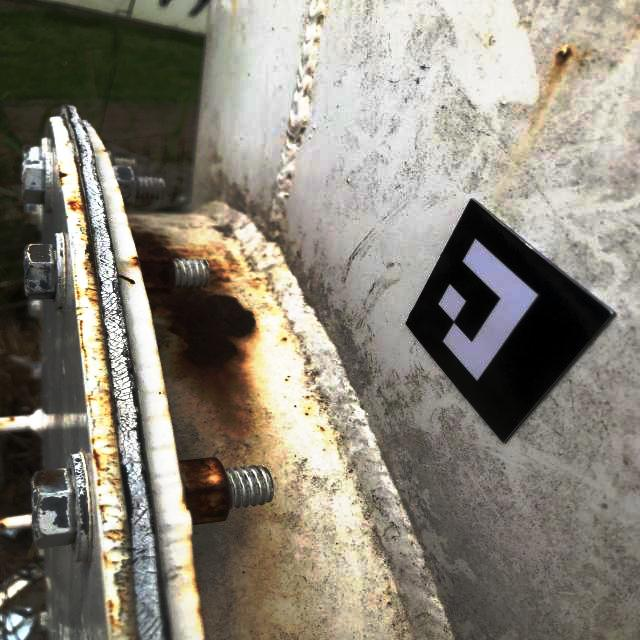Corrosion: (147, 285, 260, 379), (129, 226, 203, 295), (68, 155, 101, 305), (179, 457, 230, 525), (97, 322, 116, 428), (203, 258, 232, 295), (33, 469, 62, 486), (191, 559, 201, 594), (79, 319, 87, 358), (93, 450, 106, 472), (556, 47, 572, 63), (75, 281, 82, 310), (119, 274, 135, 284), (107, 531, 121, 541), (197, 600, 204, 619), (59, 170, 67, 185), (108, 599, 115, 614), (109, 615, 116, 627), (92, 436, 101, 445), (87, 395, 95, 404), (25, 146, 33, 153), (100, 503, 105, 513), (96, 479, 102, 486), (0, 522, 5, 529), (103, 554, 108, 561), (10, 417, 13, 420)
